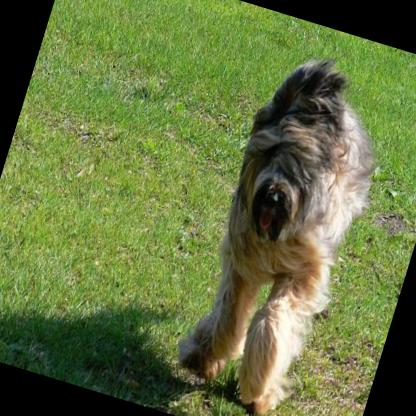briard: (163, 37, 407, 416)
